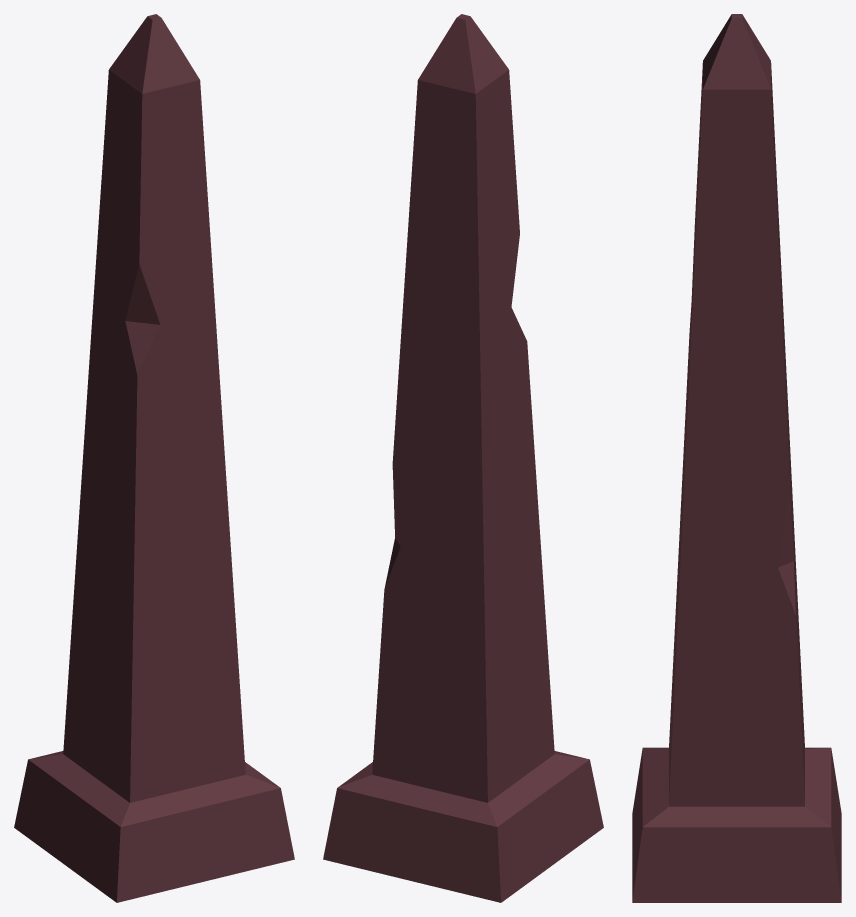
File: egypt-obelisk-old.fbx
3 views of the same model, side by side, from view 1: azimuth 30°, elevation 25°; view 2: azimuth 150°, elevation 25°; view 3: azimuth 270°, elevation 25° (orthographic).
Parts seen in each view (by area): view 1: obelisk-old; view 2: obelisk-old; view 3: obelisk-old.
Boxes of the visible parts, x1=… form: obelisk-old: x1=14, y1=14, x2=294, y2=902; obelisk-old: x1=323, y1=14, x2=603, y2=902; obelisk-old: x1=632, y1=14, x2=841, y2=902.
Bounding box in the file's own units: 4 × 17.74 × 4.
